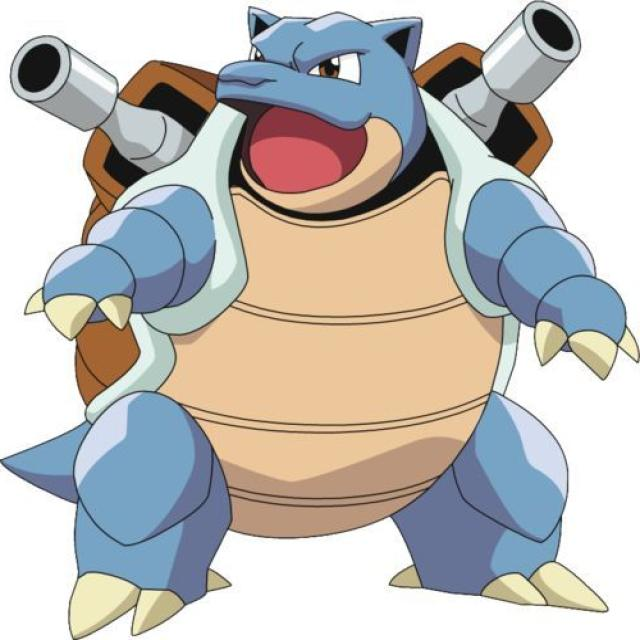Blastoise: (5, 0, 503, 523)
